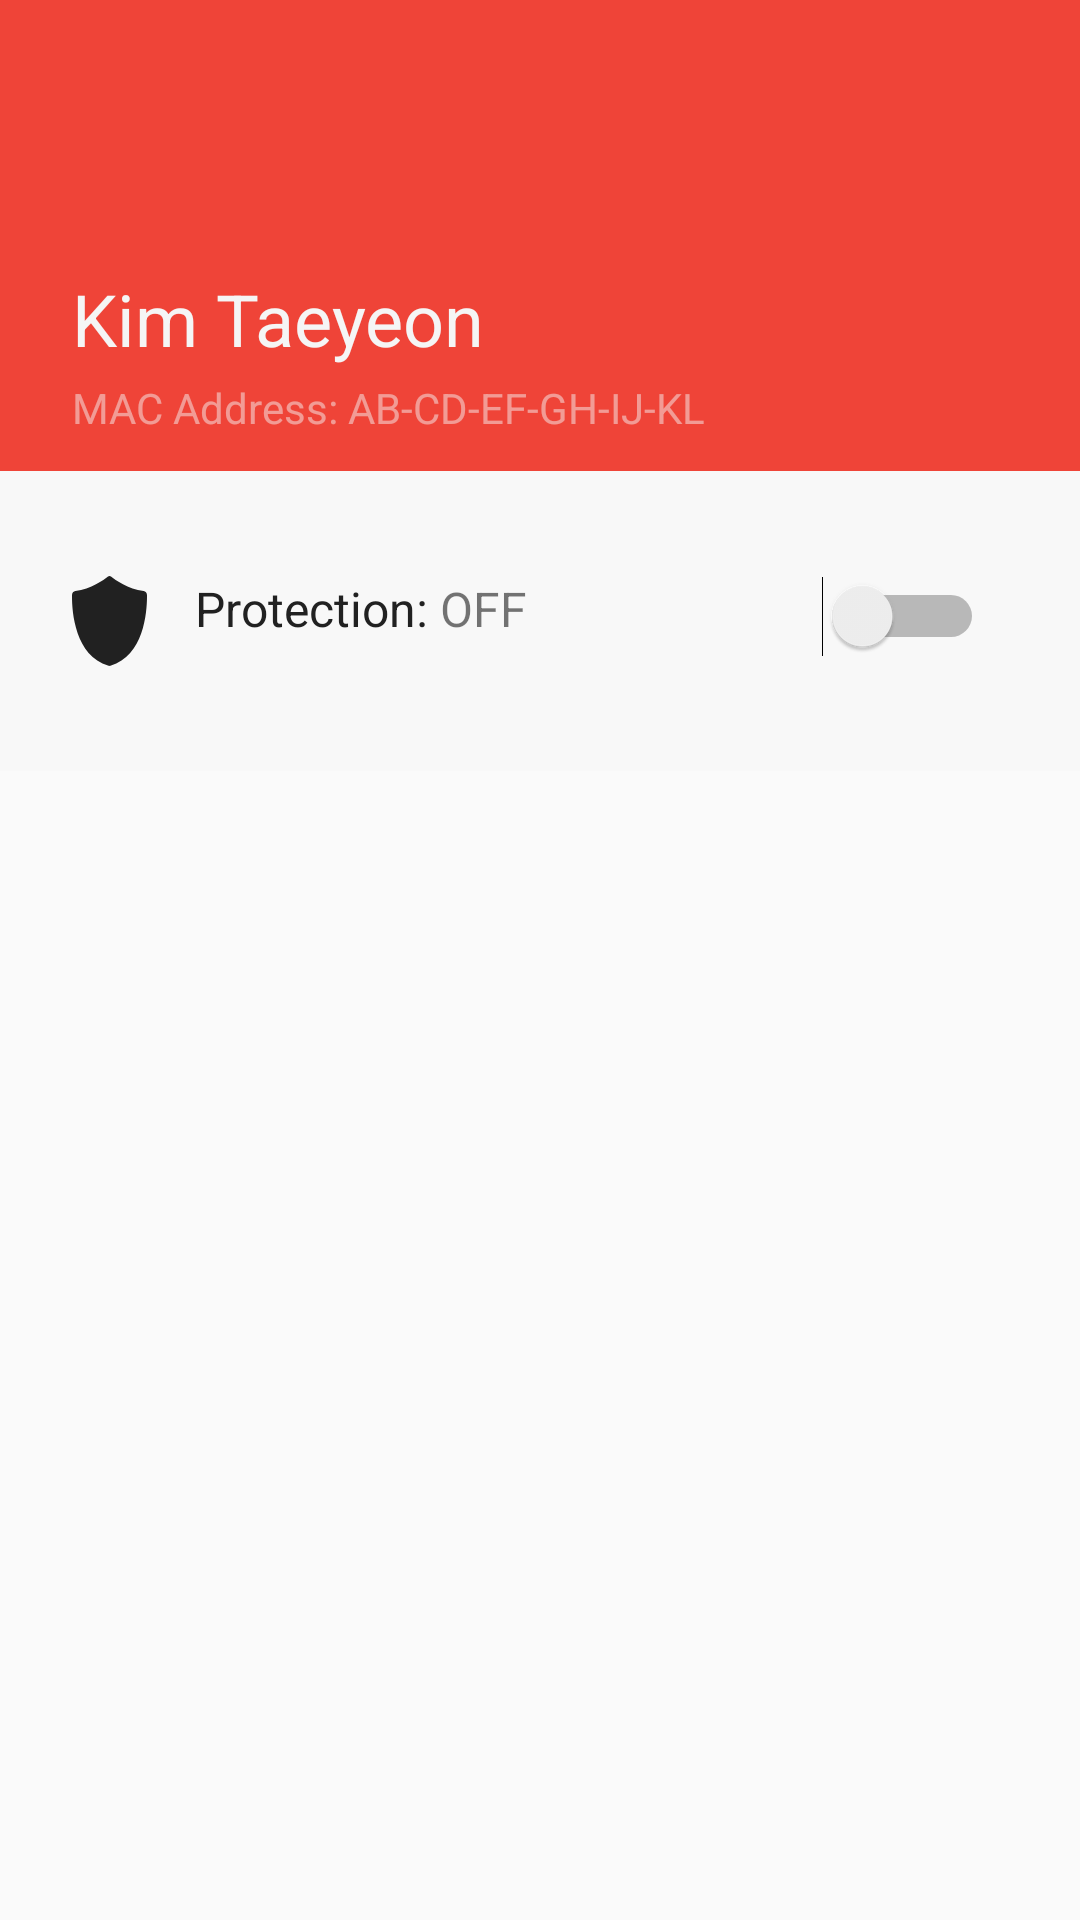

Screen size 1080 × 1920. Icon name, then its box in pixels as region(x1, y1, x2, y2):
shield: region(72, 576, 147, 666)
